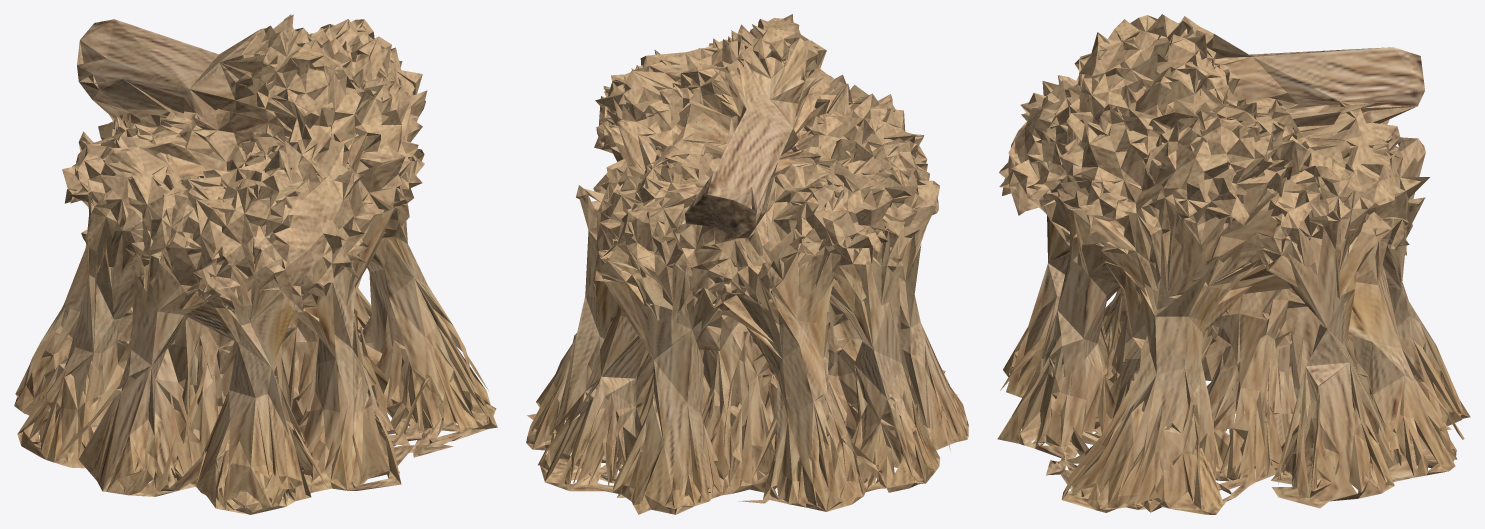
File: k_sheaves.obj
3 views of the same model, side by side, from view 1: azimuth 30°, elevation 25°; view 2: azimuth 150°, elevation 25°; view 3: azimuth 270°, elevation 25° (orthographic). The views are drawn at different scales.
Visible parts, largest first — view 1: k_sheaves; view 2: k_sheaves; view 3: k_sheaves.
Part boxes in pixels (box(x1,y1,x2,y2)): k_sheaves: box(14, 14, 497, 514); k_sheaves: box(526, 14, 968, 514); k_sheaves: box(997, 14, 1470, 514).
Bounding box in the file's own units: 1.8 × 1.76 × 1.8.
1 material, 1 textured.
